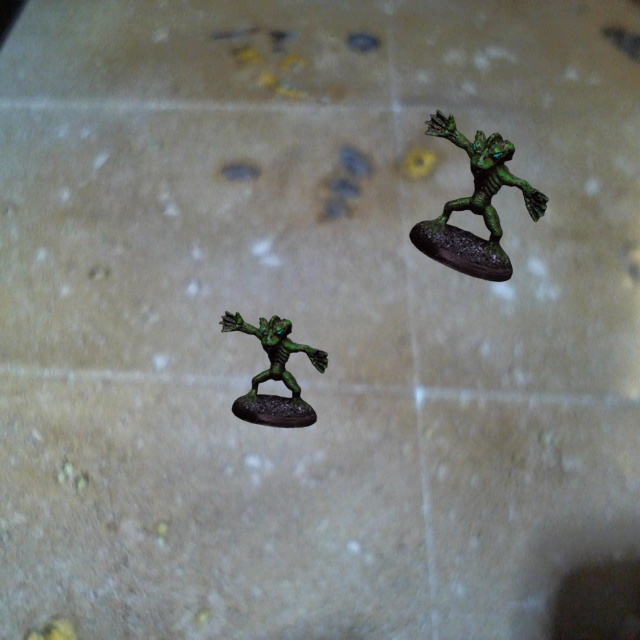pieza_juego: (409, 110, 548, 281), (219, 311, 327, 427)
